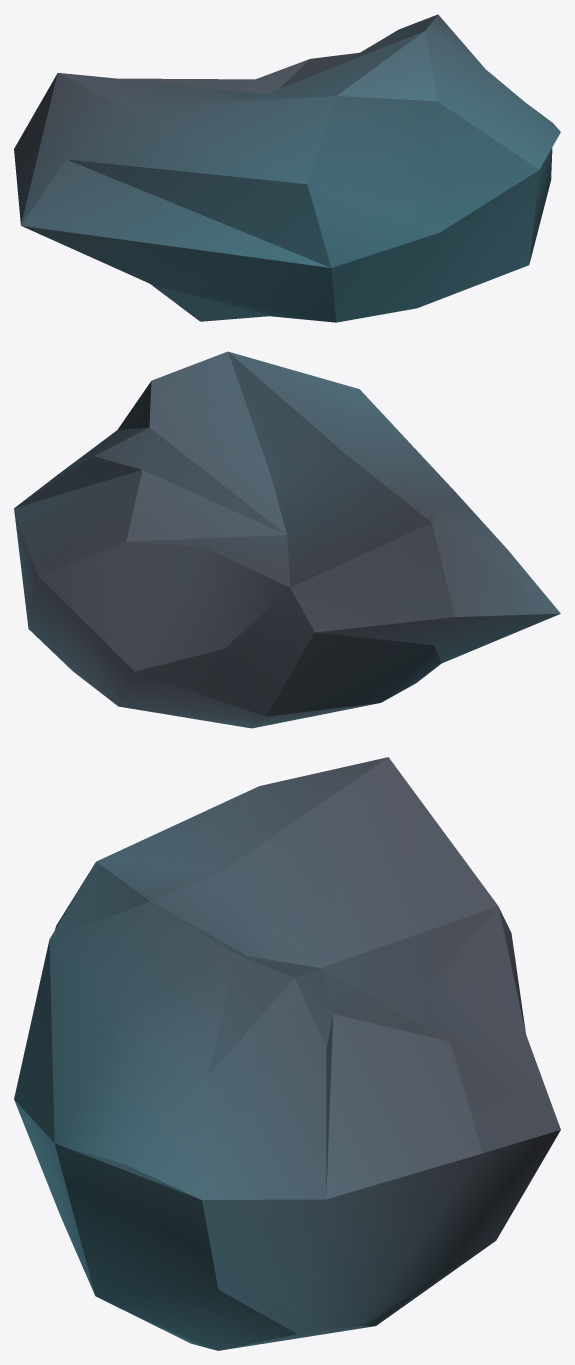
File: Rock_1b.fbx
The picture shows the model from 3 angles, top to bottom: view 1: azimuth 30°, elevation 25°; view 2: azimuth 150°, elevation 25°; view 3: azimuth 270°, elevation 25°; orthographic projection. The views are drawn at different scales.
Parts seen in each view (by area): view 1: Rock_1b; view 2: Rock_1b; view 3: Rock_1b.
Boxes of the visible parts, <box> form: Rock_1b: <box>14,14,560,322</box>; Rock_1b: <box>14,351,560,728</box>; Rock_1b: <box>14,757,560,1350</box>.
Size of the model in its own units: 53.81 by 28.85 by 35.39.
